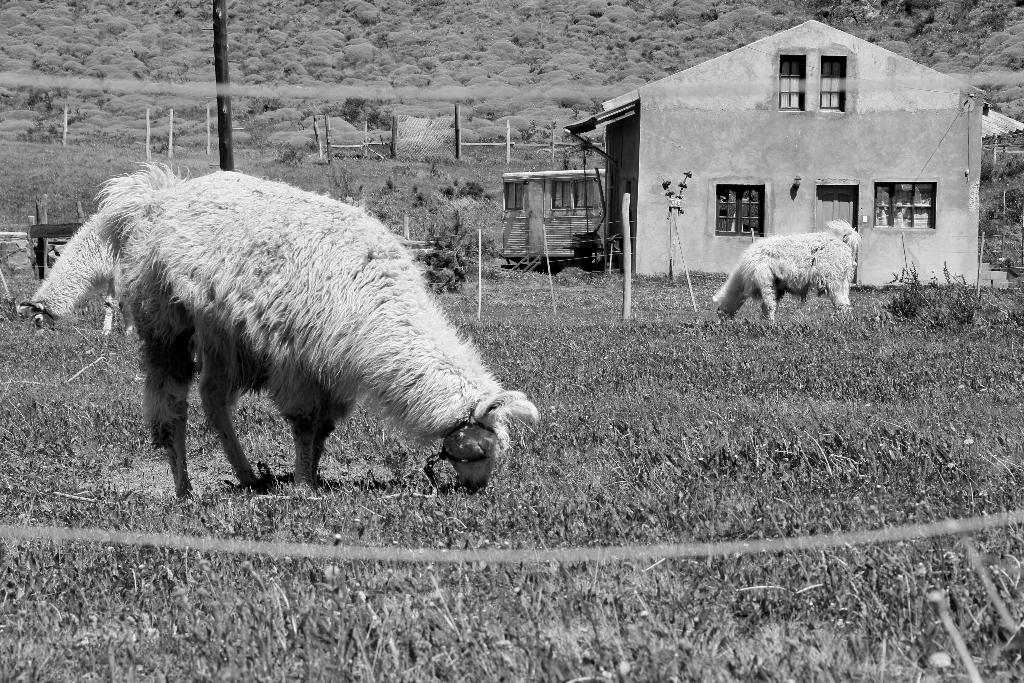sheep: (92, 157, 539, 497), (706, 219, 866, 326)
